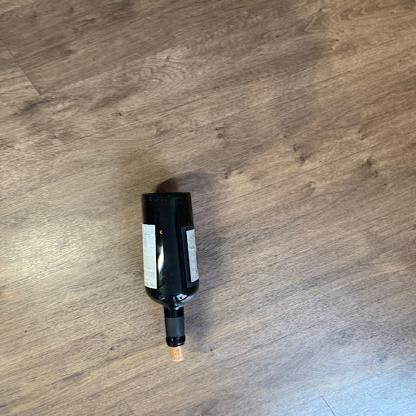trash: (141, 190, 199, 349)
